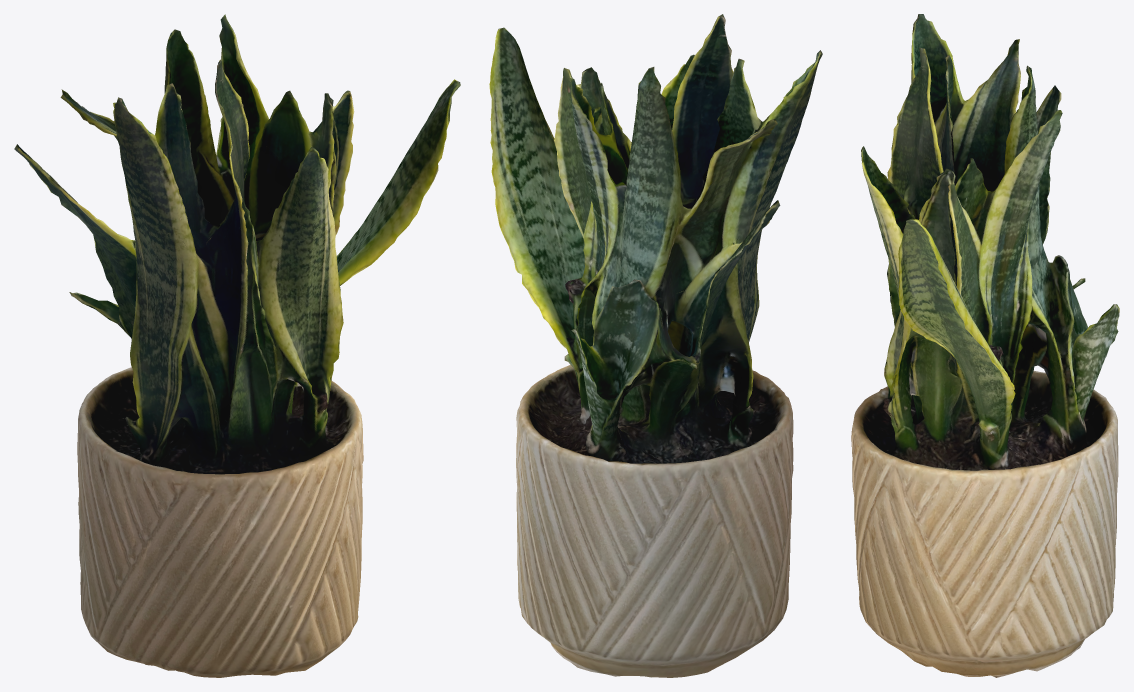
Rendered from snake_plant_in_pot.glb.
3 views of the same model, side by side, from view 1: azimuth 30°, elevation 25°; view 2: azimuth 150°, elevation 25°; view 3: azimuth 270°, elevation 25° (orthographic). The views are drawn at different scales.
Parts seen in each view (by area): view 1: ObjectCapture; view 2: ObjectCapture; view 3: ObjectCapture.
Part boxes in pixels (x1=…): ObjectCapture: x1=14, y1=14, x2=460, y2=677; ObjectCapture: x1=489, y1=14, x2=822, y2=677; ObjectCapture: x1=851, y1=14, x2=1119, y2=677.
Bounding box in the file's own units: 0.2859 × 0.4677 × 0.1973.
Materials: 1 (1 with a texture image).
